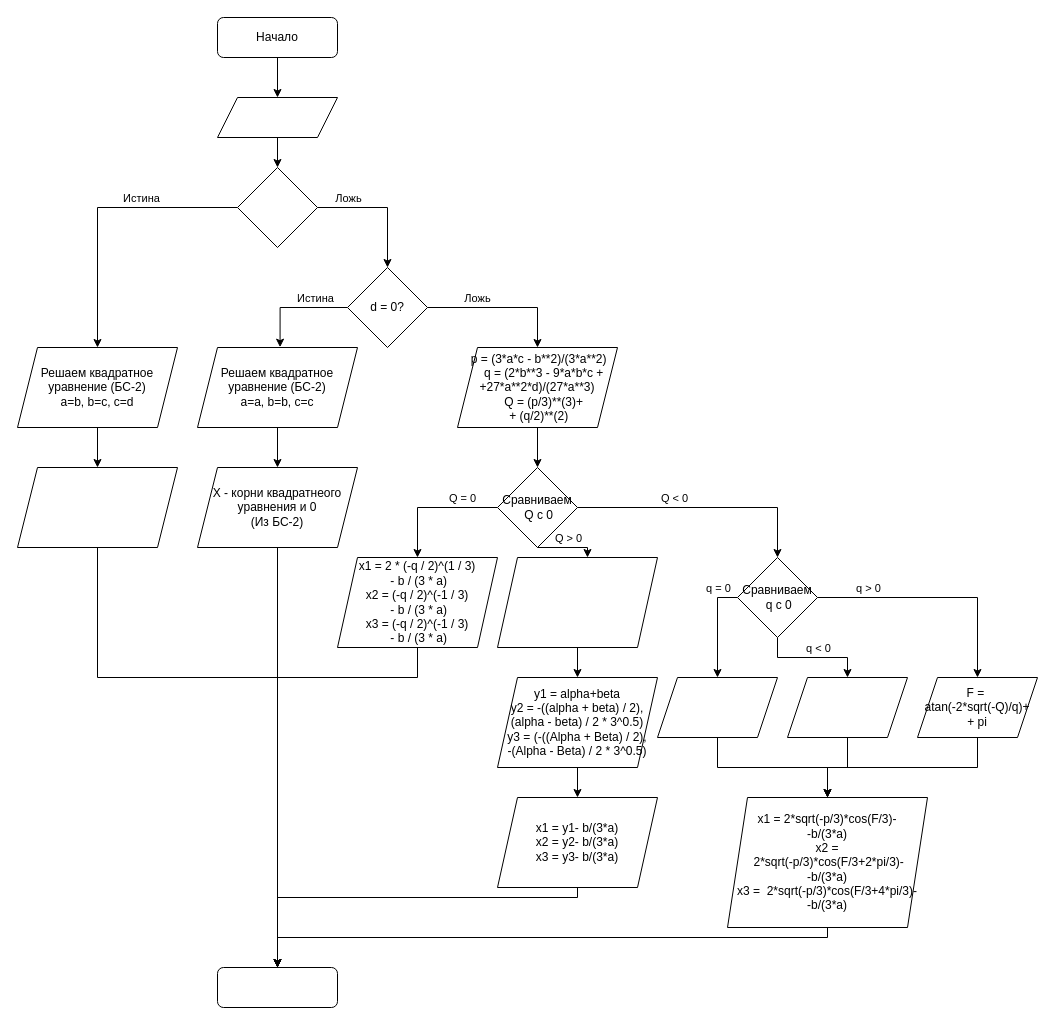
The diagram is 1055 pixels wide and 1025 high, and some of its shapes have lost their labels. The shapes that lost their labels are listed below. From the top down, each one's box as (x1, y1, x2, y2) in pixels, then its label:
(216, 96, 338, 138): Ввод a, b, c, d
(236, 166, 318, 248): a = 0?
(16, 466, 178, 548): X - корни квадратнеого уравнения (Из БС-2)
(496, 556, 658, 648): alpha = cbrt(-(q/2)+sqrt(Q)) beta = cbrt(-(q/2)-sqrt(Q))
(656, 676, 778, 738): F = pi/2
(786, 676, 908, 738): F = atan(-2*sqrt(-Q)/q)
(216, 966, 338, 1008): Конец
